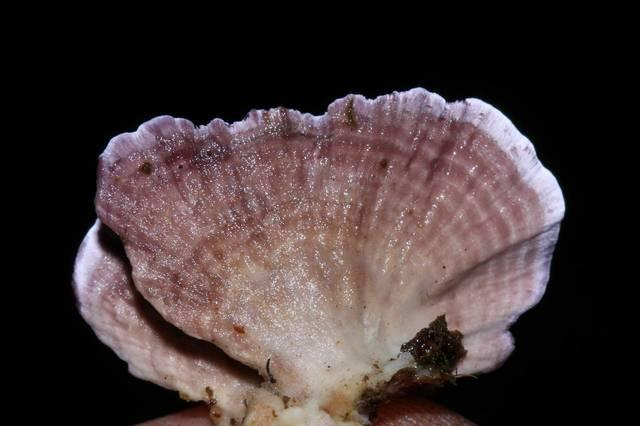poisonous_mushroom: (71, 85, 567, 425)
